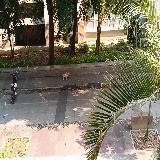fire: (65, 72, 70, 76)
